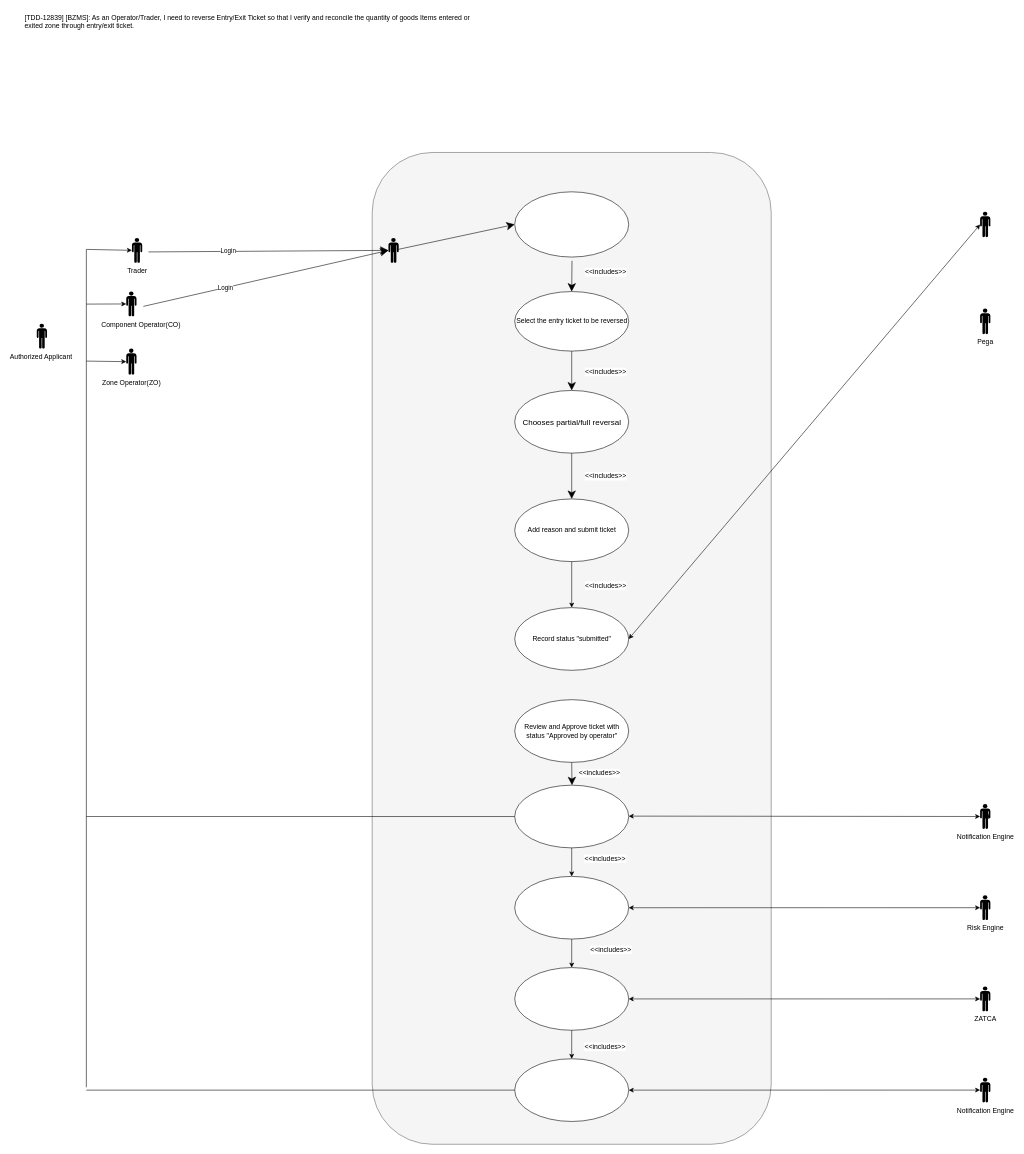
Some shapes in this 1024 by 1154 pixel diagram are drawn without their labels. The box of each missing label's shape, as (x1, y1, x2, y2) in pixels:
BZMS Customer Portal: (388, 238, 398, 262)
Notify all relevant parties: (514, 1058, 629, 1121)
Notify applicant first-level approval complete: (514, 785, 629, 848)
Postgres: (980, 211, 990, 237)
Risk Mitigation: (514, 876, 629, 939)
Select zone to reverse entry ticket: (514, 191, 629, 257)
ZATCA Approval: (514, 967, 629, 1030)
